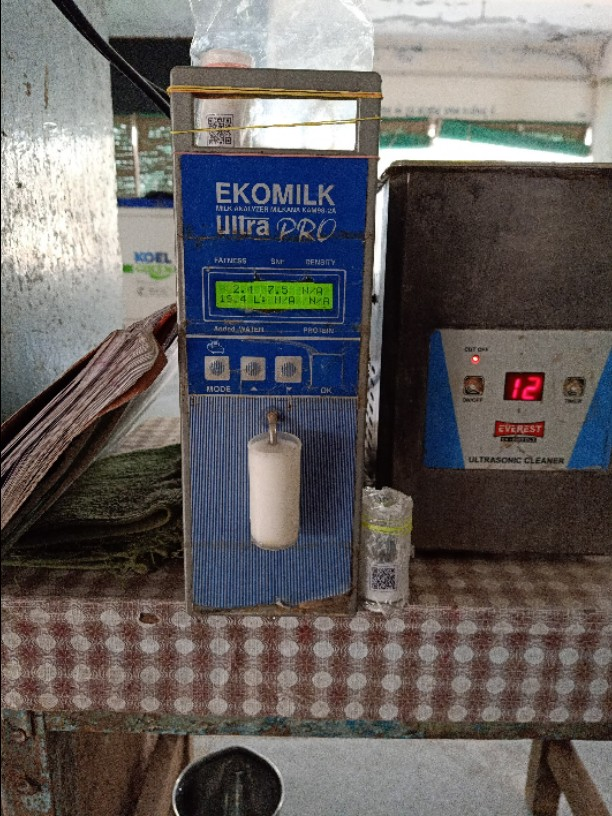lcd: (210, 276, 353, 321)
qr: (362, 561, 415, 599)
